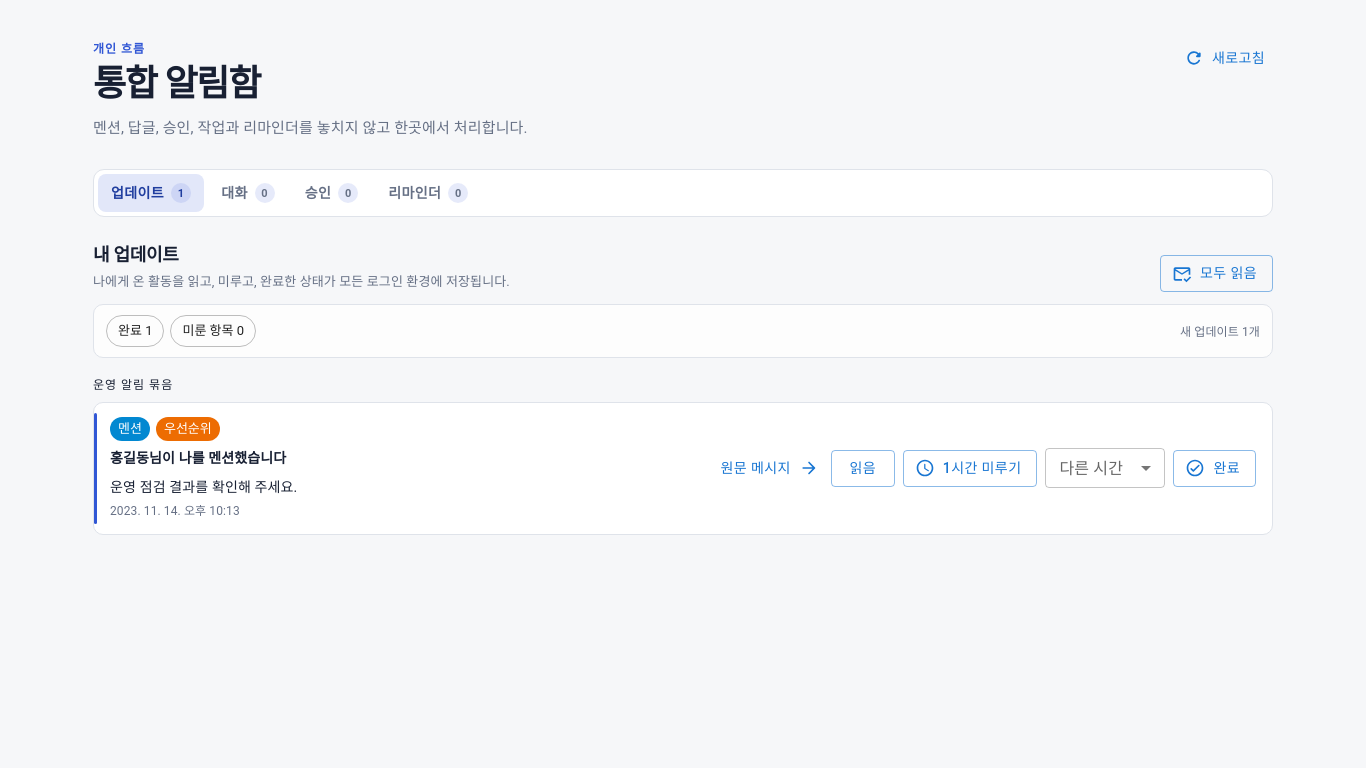
UnifiedInboxPage durable updates › uses updates as the default tab and keeps completed items recoverable
Expected: the tab "업데이트 1" is shown, x1=98 y1=174 x2=204 y2=212
Expected: the text "운영 보고서 작성" is not shown
Click the button "완료 1" at {"x": 135, "y": 331}, box x1=106 y1=315 x2=164 y2=347
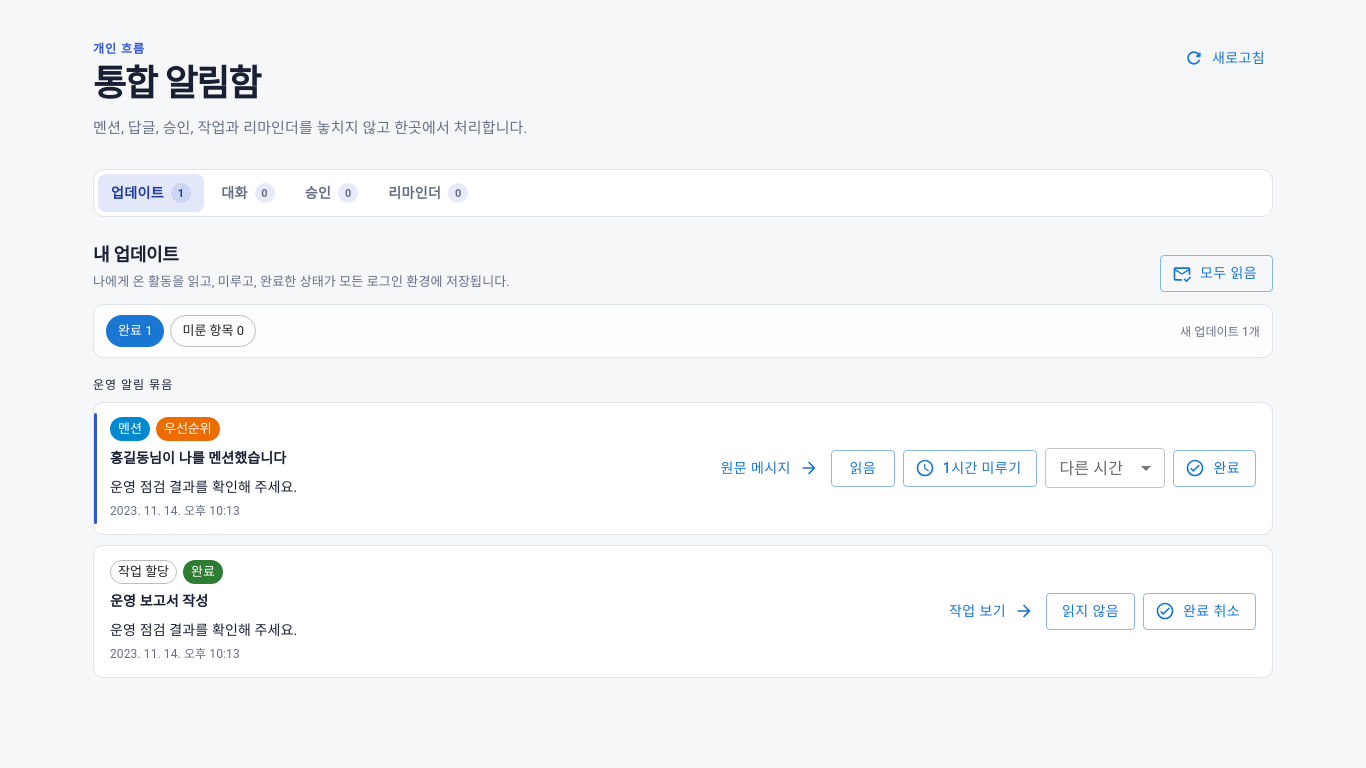
Now the text "운영 보고서 작성" is shown, box x1=110 y1=593 x2=208 y2=609
Now the text "완료 취소" is shown, box x1=1143 y1=593 x2=1256 y2=630
